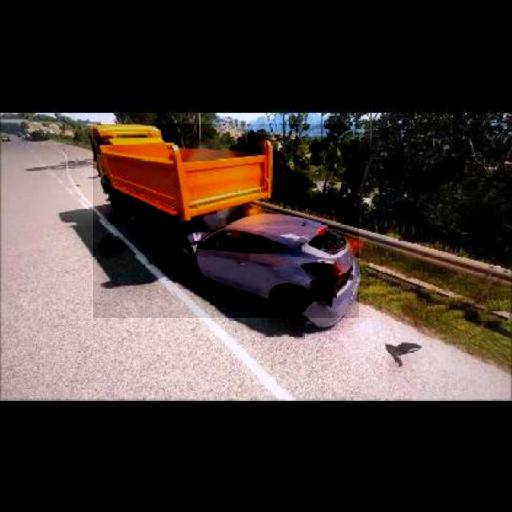小汽车撞小汽车: (93, 124, 359, 318)
